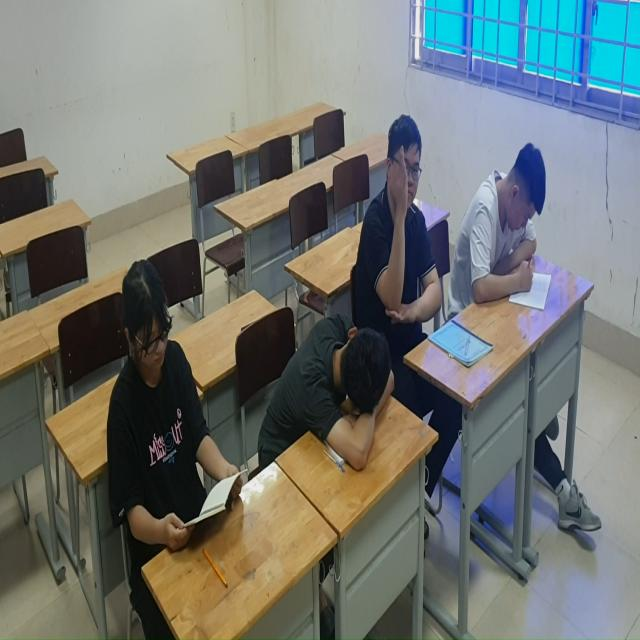raise_hand: (360, 108, 457, 350)
read: (102, 231, 271, 571), (460, 137, 558, 324)
sleep: (268, 304, 400, 479)
